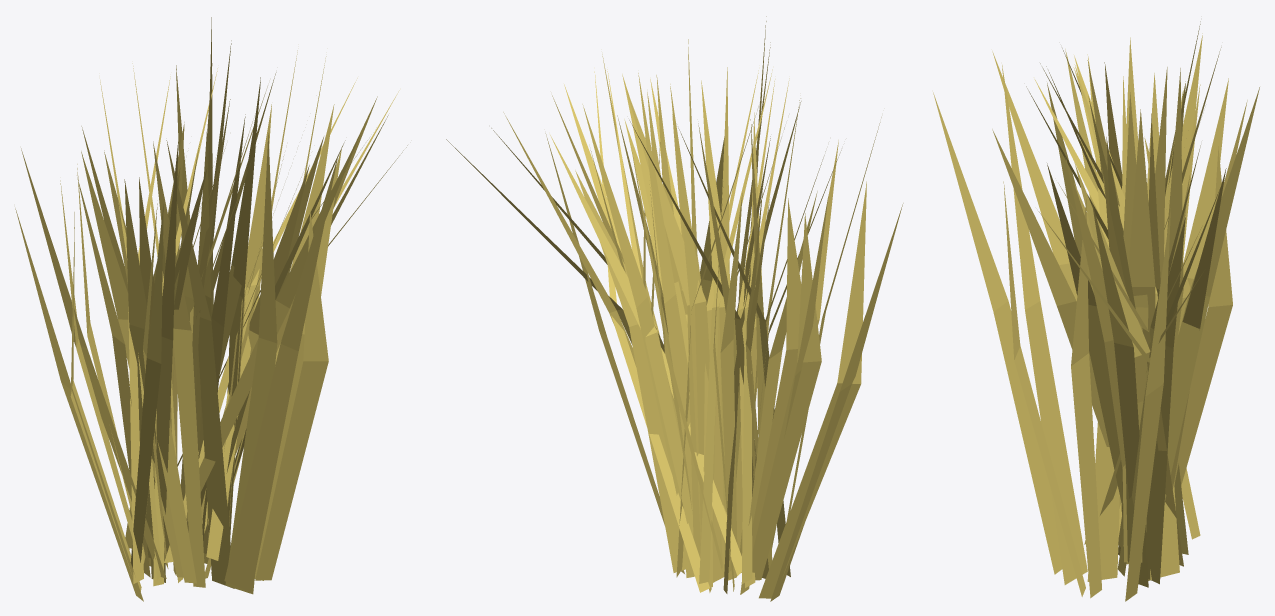
Rendered from espigas_2.glb.
The picture shows the model from 3 angles, left to right: view 1: azimuth 30°, elevation 25°; view 2: azimuth 150°, elevation 25°; view 3: azimuth 270°, elevation 25°; orthographic projection. The views are drawn at different scales.
Visible parts, largest first — view 1: Plane.053; view 2: Plane.053; view 3: Plane.053.
Boxes of the visible parts, left/top/right/bottom form: Plane.053: left=15, top=17, right=407, bottom=601; Plane.053: left=446, top=16, right=903, bottom=601; Plane.053: left=933, top=21, right=1259, bottom=601.
Size of the model in its own units: 2.07 by 2.41 by 1.31.
